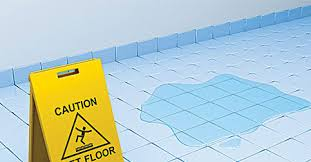Wet-floor: (139, 71, 311, 151)
